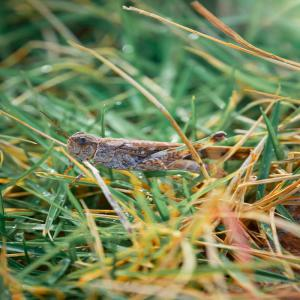locust: (37, 119, 260, 173)
